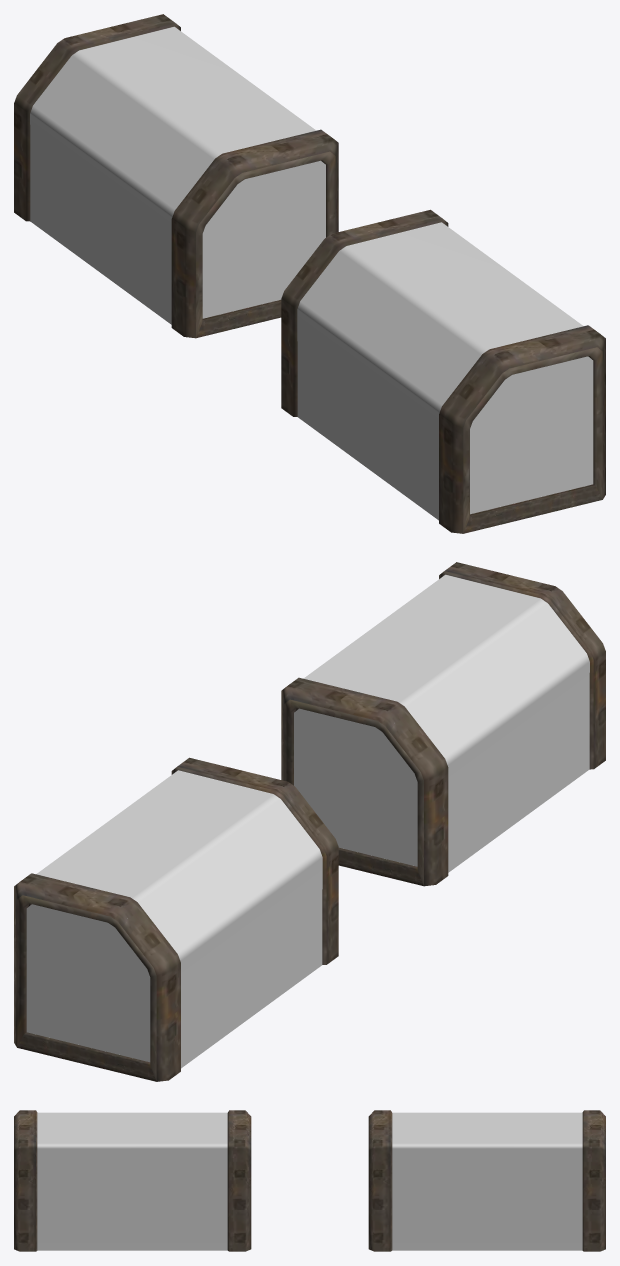
3 views of the same model, one above another, from view 1: azimuth 30°, elevation 25°; view 2: azimuth 150°, elevation 25°; view 3: azimuth 270°, elevation 25° (orthographic). The views are drawn at different scales.
Parts seen in each view (by area): view 1: SM_Dowdun_Walkway_Battlements_8x8_03_LOD0; view 2: SM_Dowdun_Walkway_Battlements_8x8_03_LOD0; view 3: SM_Dowdun_Walkway_Battlements_8x8_03_LOD0.
Boxes of the visible parts, x1,y1,x2,y2 form: SM_Dowdun_Walkway_Battlements_8x8_03_LOD0: (14, 14, 605, 533); SM_Dowdun_Walkway_Battlements_8x8_03_LOD0: (14, 562, 605, 1081); SM_Dowdun_Walkway_Battlements_8x8_03_LOD0: (14, 1110, 605, 1251).
Size of the model in its own units: 0.9999 by 0.9999 by 4.99.
Materials: 2 (1 with a texture image).
